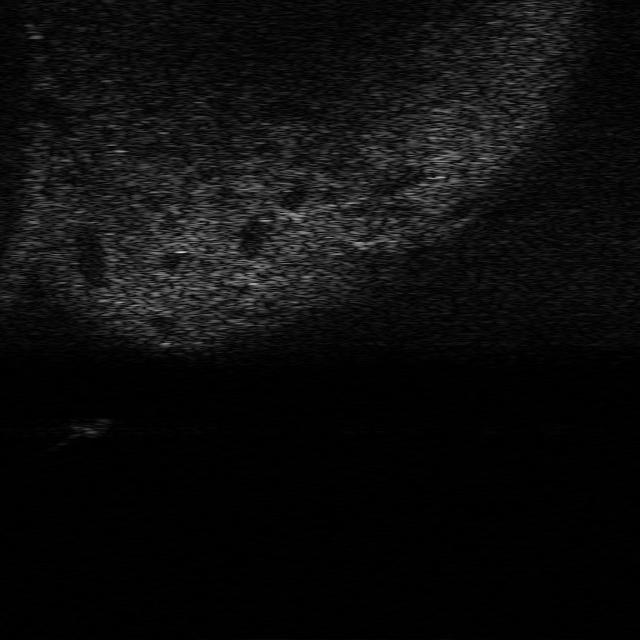cube: (68, 415, 112, 440)
